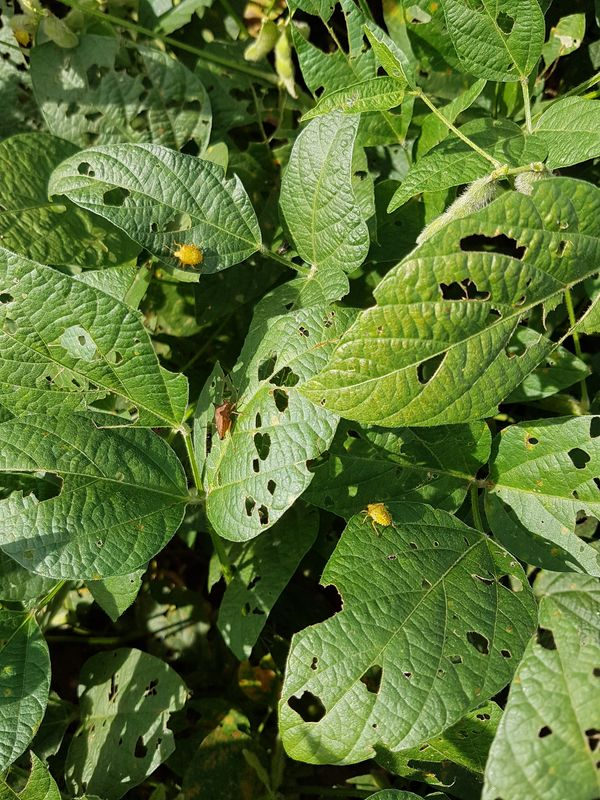Euschistus_heros_adulto: (201, 394, 251, 451)
Euschistus_heros_ninfa: (161, 236, 212, 276), (357, 495, 400, 535)
